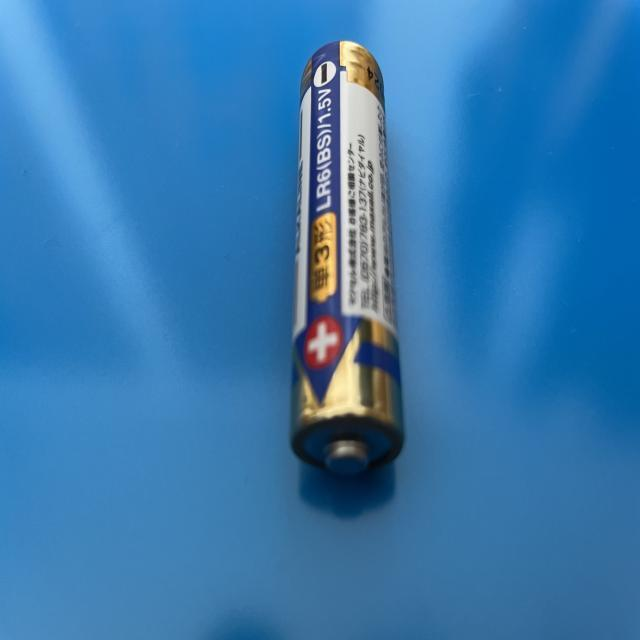AAA: (284, 42, 406, 477)
